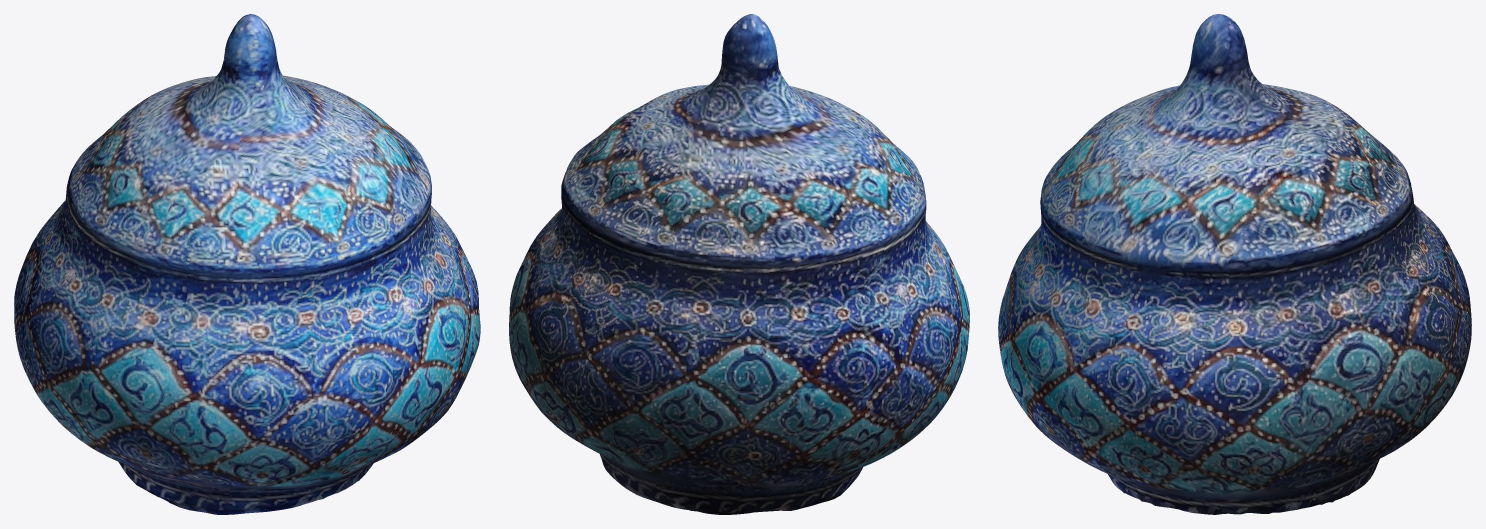
3 views of the same model, side by side, from view 1: azimuth 30°, elevation 25°; view 2: azimuth 150°, elevation 25°; view 3: azimuth 270°, elevation 25° (orthographic). The views are drawn at different scales.
Parts seen in each view (by area): view 1: ArcsoftMeshes0; view 2: ArcsoftMeshes0; view 3: ArcsoftMeshes0.
Boxes of the visible parts, left/top/right/bottom form: ArcsoftMeshes0: left=14, top=14, right=480, bottom=514; ArcsoftMeshes0: left=509, top=14, right=969, bottom=514; ArcsoftMeshes0: left=998, top=14, right=1471, bottom=514.
Size of the model in its own units: 0.8762 by 0.9531 by 0.8855.
Materials: 1 (1 with a texture image).
